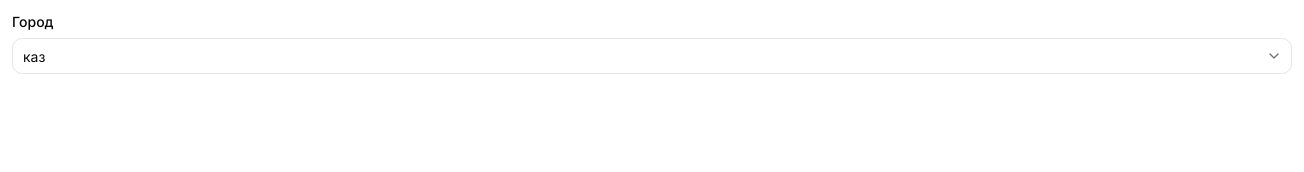
Test: комбобокс › фильтрует, выбирается стрелками и Enter, допускает свободный ввод
The image size is (1304, 172).
Later steps or results of the test are not shown.
Focus the dropdown labelled "Город" at (652, 56), box x1=12 y1=38 x2=1292 y2=74
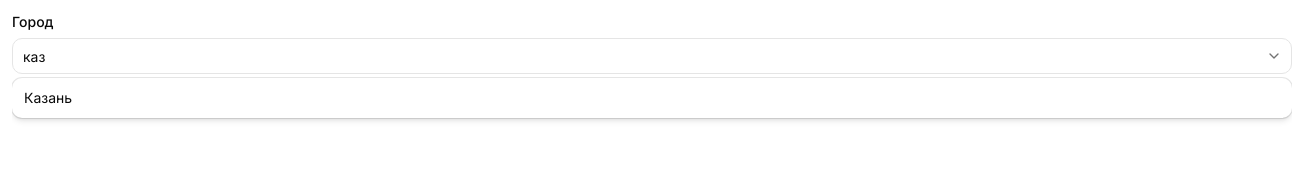
Expected: the number of options is 1, x1=24 y1=89 x2=72 y2=106
